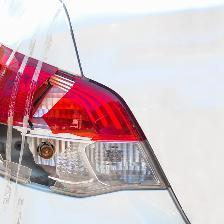tail_lamp: (1, 28, 159, 215)
